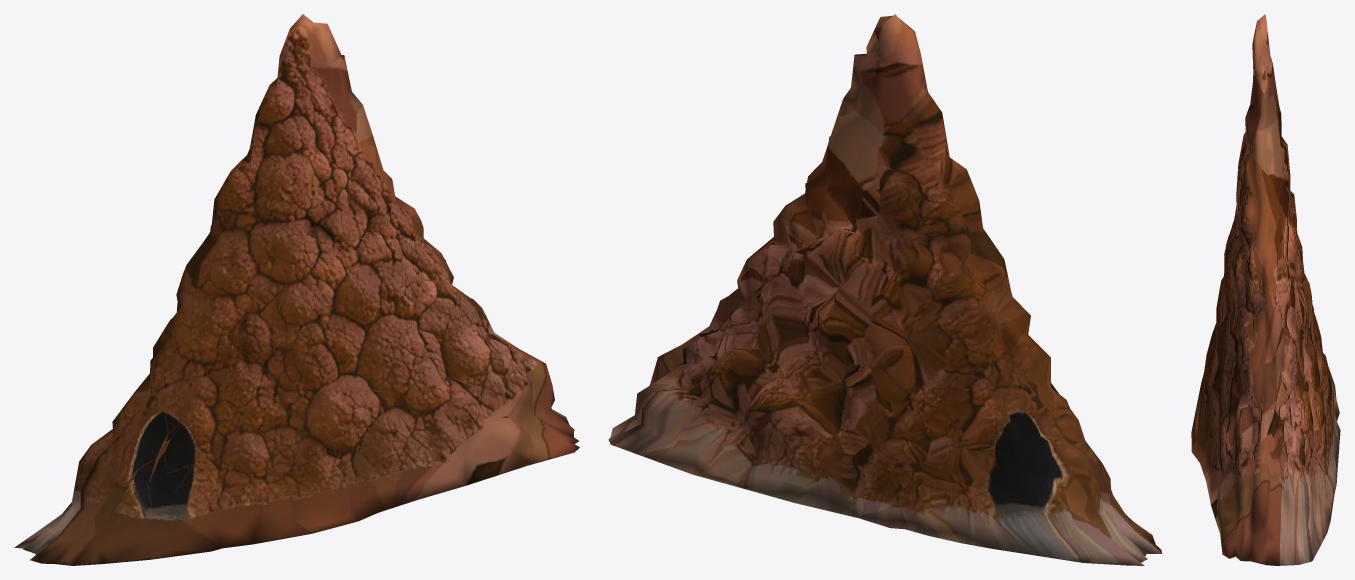
Rendered from toad-prop3d-mound-a.glb.
3 views of the same model, side by side, from view 1: azimuth 30°, elevation 25°; view 2: azimuth 150°, elevation 25°; view 3: azimuth 270°, elevation 25° (orthographic). The views are drawn at different scales.
Parts seen in each view (by area): view 1: world; view 2: world; view 3: world.
Part boxes in pixels (box(x1,y1,x2,y2)): world: box(14, 14, 579, 565); world: box(608, 14, 1162, 565); world: box(1191, 14, 1340, 565).
Bounding box in the file's own units: 0.38 × 0.32 × 0.1.
1 material, 1 textured.
